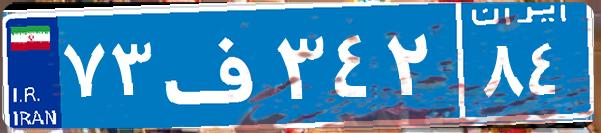2: (385, 28, 445, 110)
3: (273, 28, 330, 110), (110, 28, 158, 105)
4: (330, 28, 385, 110), (525, 38, 570, 115)
7: (57, 26, 110, 107)
8: (475, 38, 525, 113)
ف: (158, 15, 273, 115)
